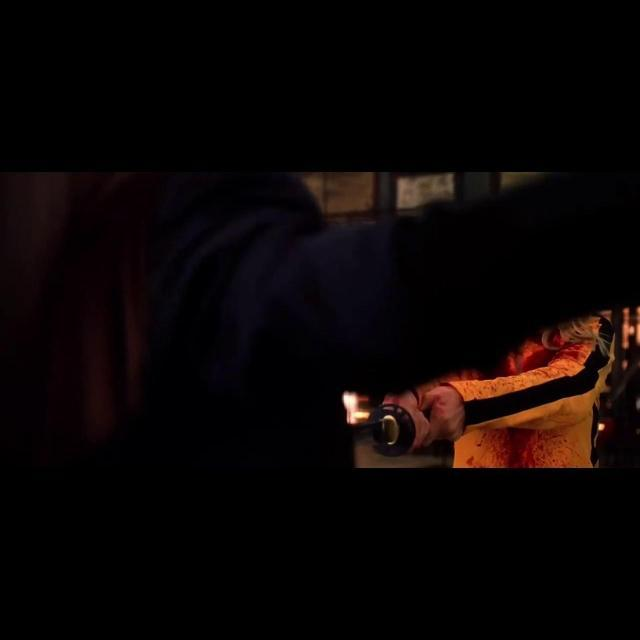blood: (443, 316, 618, 468), (432, 398, 448, 414)
